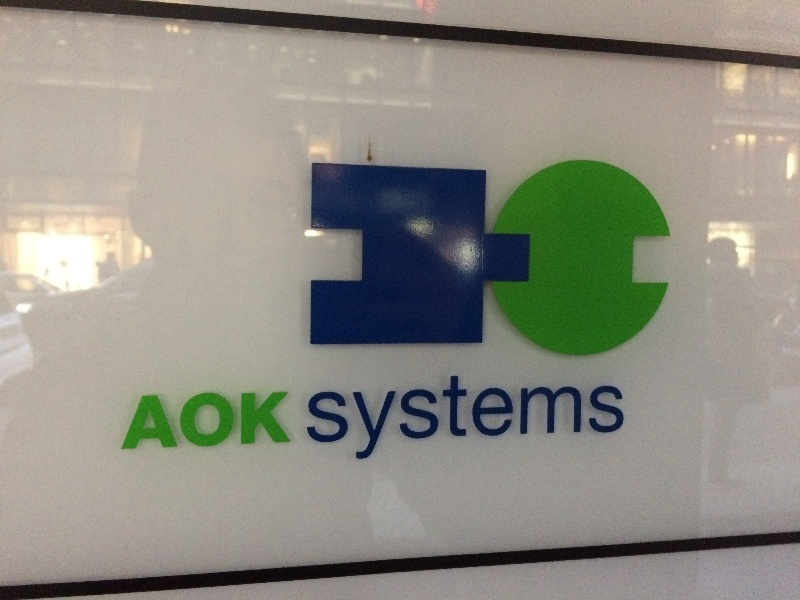text: (321, 363, 336, 465), (337, 363, 352, 465), (353, 363, 368, 465), (369, 363, 384, 465), (385, 363, 400, 465), (401, 363, 416, 465), (417, 363, 432, 465), (433, 363, 448, 465), (449, 363, 464, 465), (465, 363, 480, 465), (481, 363, 496, 465), (497, 363, 512, 465), (513, 363, 528, 465), (529, 363, 544, 465), (545, 363, 560, 465), (561, 363, 576, 465), (577, 363, 592, 465), (593, 363, 608, 465), (609, 363, 624, 465), (307, 363, 320, 465), (145, 390, 160, 451), (161, 390, 176, 451), (177, 390, 192, 451), (193, 390, 208, 451), (209, 390, 224, 451), (225, 390, 240, 451), (241, 390, 256, 451), (257, 390, 272, 451), (273, 390, 288, 451), (142, 390, 144, 451), (289, 390, 291, 451)
